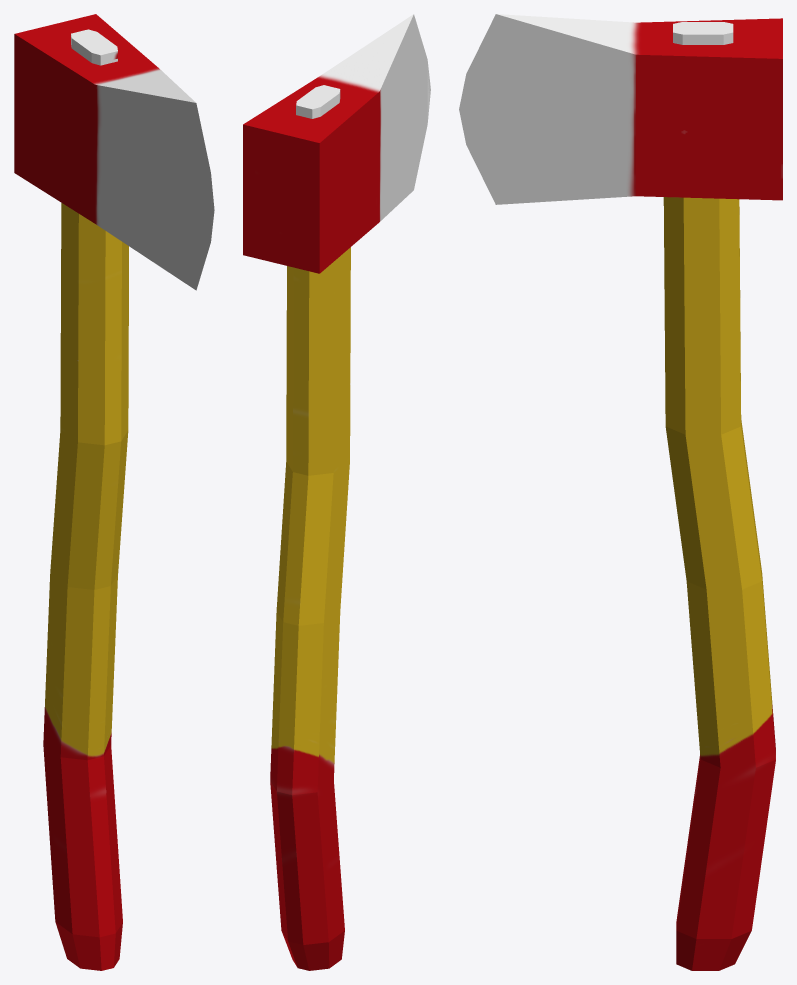
File: siekieradziala.fbx
3 views of the same model, side by side, from view 1: azimuth 30°, elevation 25°; view 2: azimuth 150°, elevation 25°; view 3: azimuth 270°, elevation 25° (orthographic). The views are drawn at different scales.
Visible parts, largest first — view 1: Cube.002; view 2: Cube.002; view 3: Cube.002.
Part boxes in pixels (x1=…): Cube.002: x1=14, y1=14, x2=214, y2=970; Cube.002: x1=243, y1=14, x2=430, y2=970; Cube.002: x1=459, y1=14, x2=782, y2=970.
Bounding box in the file's own units: 0.1875 × 2.06 × 0.6335.
